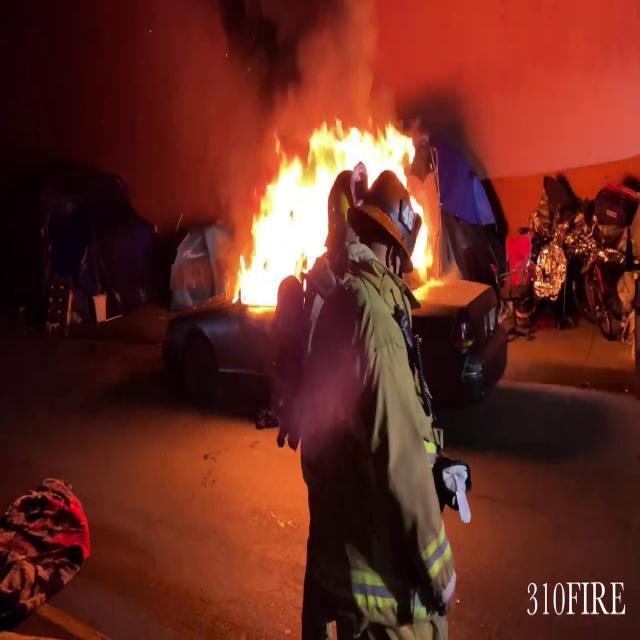Fire: (238, 122, 439, 313)
Smoke: (157, 0, 442, 241)
